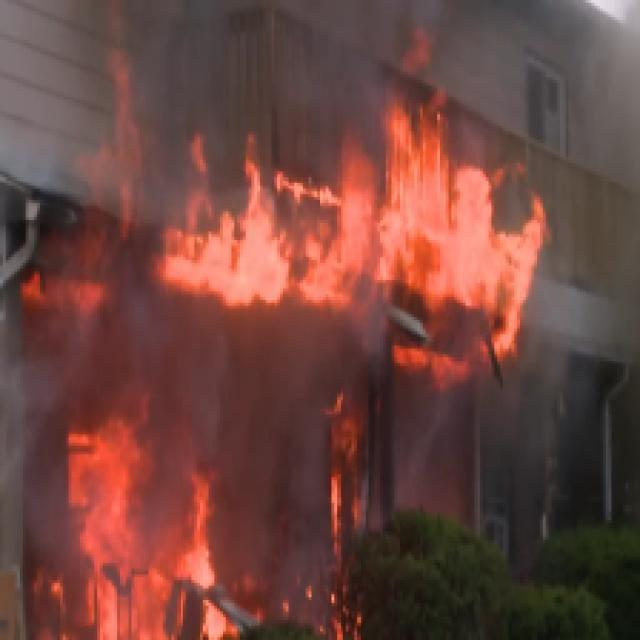Fire: (42, 37, 618, 640)
Smoke: (20, 3, 640, 180)
